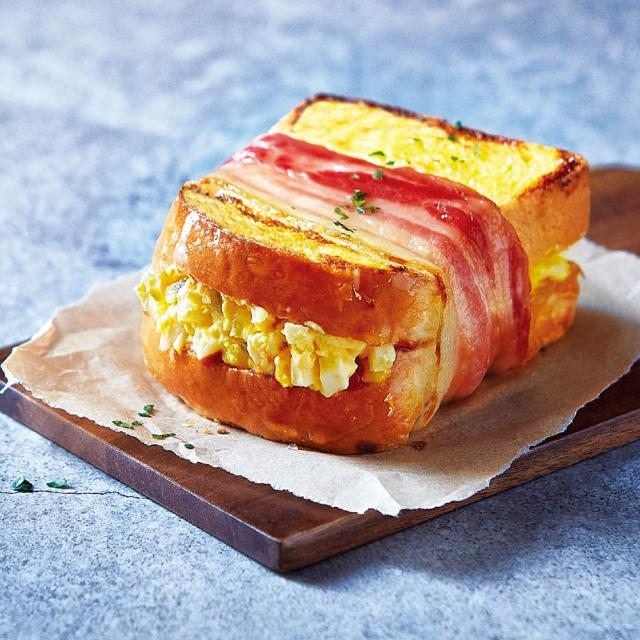bacon: (208, 135, 529, 395)
